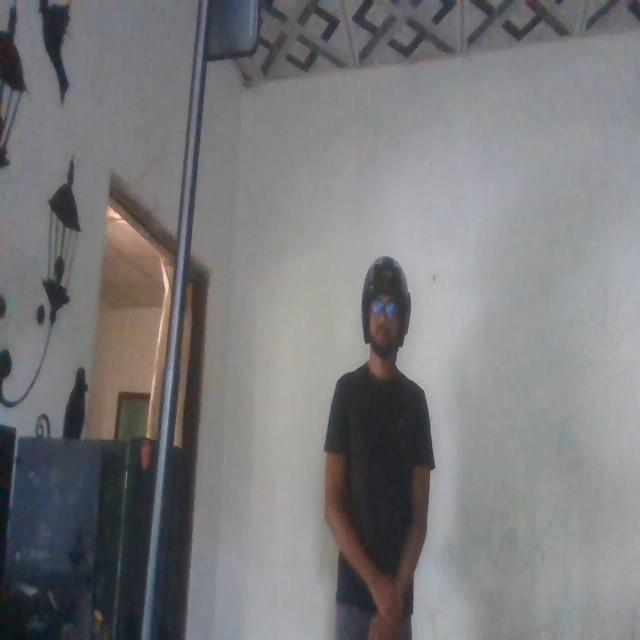Helmet_Wearer: (356, 254, 412, 388)
Person: (322, 249, 432, 640)
